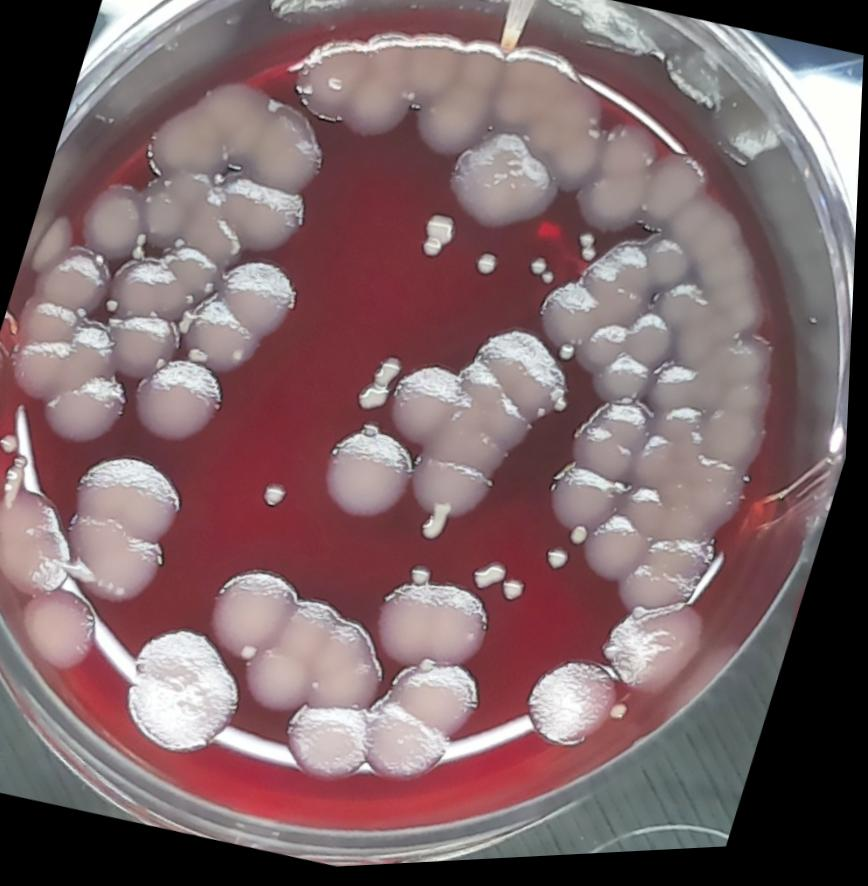staphylo-: (413, 211, 465, 270), (421, 504, 461, 553), (472, 559, 514, 602), (258, 477, 297, 518), (373, 350, 409, 394), (356, 386, 396, 422), (526, 259, 563, 296), (472, 250, 506, 289), (573, 235, 605, 273), (504, 578, 537, 614), (547, 547, 579, 581), (410, 564, 442, 595), (548, 391, 577, 423), (185, 345, 216, 369), (557, 346, 583, 372), (571, 527, 597, 553), (611, 706, 636, 731), (0, 432, 24, 456), (103, 296, 125, 319), (422, 659, 445, 680), (244, 645, 266, 666), (172, 235, 194, 256), (130, 245, 151, 266), (201, 281, 221, 301), (92, 252, 112, 272), (134, 231, 153, 252), (183, 293, 201, 311), (16, 453, 35, 470), (77, 306, 91, 321)
